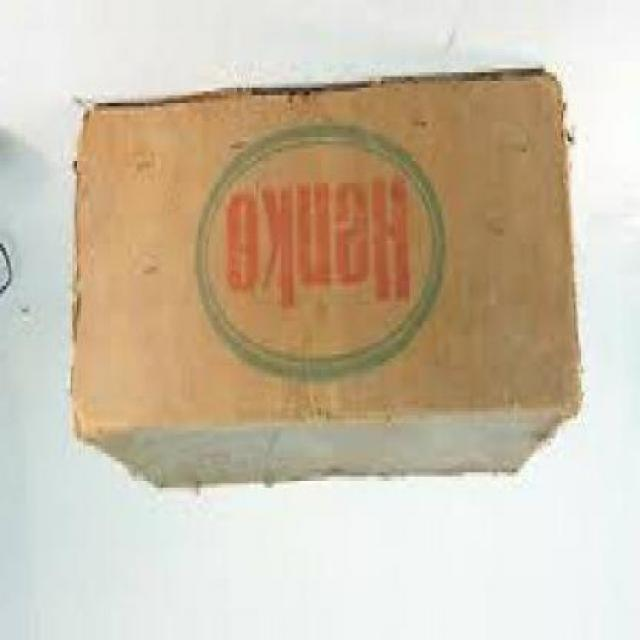box: (74, 72, 585, 491)
